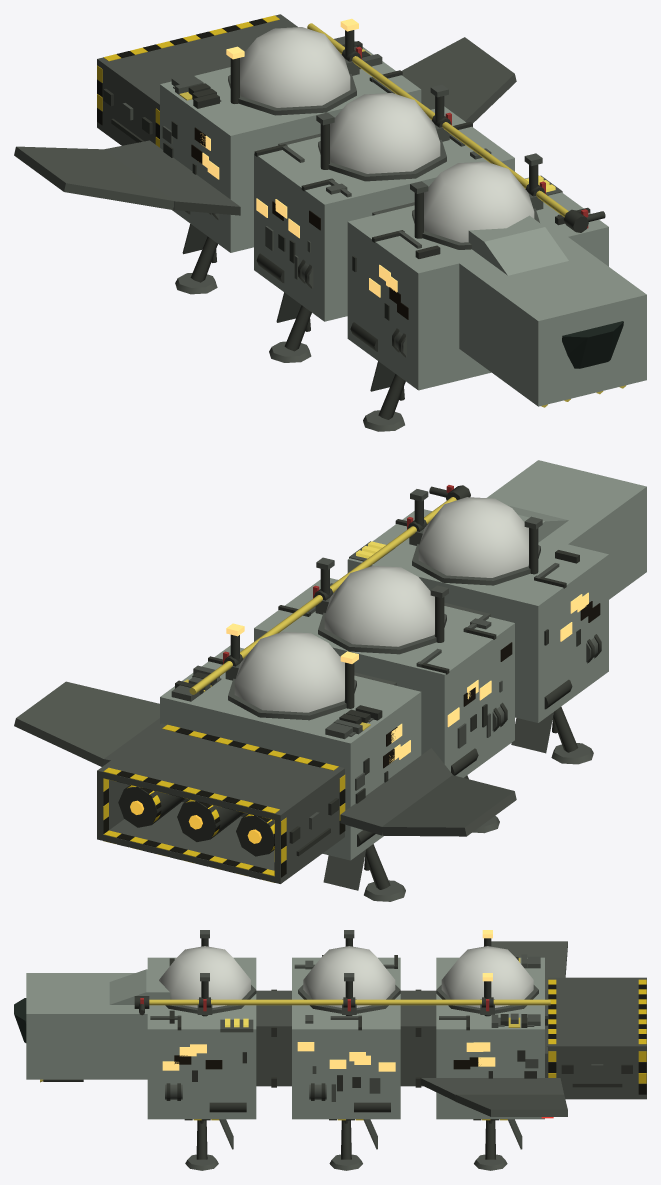
Rendered from h2_freighter-m(2).glb.
The picture shows the model from 3 angles, top to bottom: view 1: azimuth 30°, elevation 25°; view 2: azimuth 150°, elevation 25°; view 3: azimuth 270°, elevation 25°; orthographic projection. The views are drawn at different scales.
Visible parts, largest first — view 1: hullNose, hullMain, hullSection1, hullSection2, pressureTank2, pressureTank1, pressureTank0, shroudPlateTop, wingOuterRight, wingOuterLeft, wingInnerLeft, canopyFairing (+7 smaller); view 2: hullMain, hullSection1, hullSection2, shroudPlateTop, hullNose, pressureTank2, pressureTank0, pressureTank1, wingOuterRight, wingOuterLeft, shroudPlateBottom, engineHousing (×3) (+10 smaller); view 3: hullNose, hullSection1, hullMain, hullSection2, shroudPlateTop, pressureTank2, pressureTank1, pressureTank0, gantry0, shroudPlateRight, gantry1, h2Manifold (+14 smaller).
Part boxes in pixels (left/top/right/bottom): hullNose: left=454, top=234, right=646, bottom=406; hullMain: left=347, top=175, right=608, bottom=390; hullSection1: left=254, top=106, right=514, bottom=321; hullSection2: left=160, top=41, right=421, bottom=252; pressureTank2: left=240, top=27, right=350, bottom=107; pressureTank1: left=330, top=93, right=440, bottom=173; pressureTank0: left=424, top=161, right=534, bottom=242; shroudPlateTop: left=97, top=14, right=297, bottom=110; wingOuterRight: left=402, top=37, right=516, bottom=122; wingOuterLeft: left=14, top=146, right=173, bottom=209; wingInnerLeft: left=104, top=140, right=240, bottom=215; canopyFairing: left=468, top=215, right=568, bottom=275; hullMain: left=347, top=509, right=608, bottom=722; hullSection1: left=254, top=578, right=514, bottom=777; hullSection2: left=160, top=645, right=421, bottom=860; shroudPlateTop: left=97, top=723, right=344, bottom=821; hullNose: left=486, top=460, right=646, bottom=599; pressureTank2: left=234, top=631, right=344, bottom=712; pressureTank0: left=418, top=497, right=528, bottom=577; pressureTank1: left=324, top=566, right=434, bottom=646; wingOuterRight: left=14, top=681, right=159, bottom=766; wingOuterLeft: left=381, top=775, right=516, bottom=836; shroudPlateBottom: left=97, top=802, right=344, bottom=883; engineHousing (×3): left=118, top=785, right=274, bottom=856; hullNose: left=26, top=973, right=153, bottom=1079; hullSection1: left=292, top=957, right=400, bottom=1119; hullMain: left=147, top=957, right=256, bottom=1119; hullSection2: left=436, top=957, right=544, bottom=1119; shroudPlateTop: left=548, top=977, right=646, bottom=1050; pressureTank2: left=441, top=946, right=533, bottom=1007; pressureTank1: left=303, top=946, right=395, bottom=1007; pressureTank0: left=159, top=946, right=250, bottom=1007; gantry0: left=256, top=990, right=291, bottom=1086; shroudPlateRight: left=548, top=1051, right=646, bottom=1094; gantry1: left=400, top=990, right=436, bottom=1086; h2Manifold: left=149, top=999, right=550, bottom=1005.
Size of the model in its own units: 5.46 by 2.68 by 8.61.
